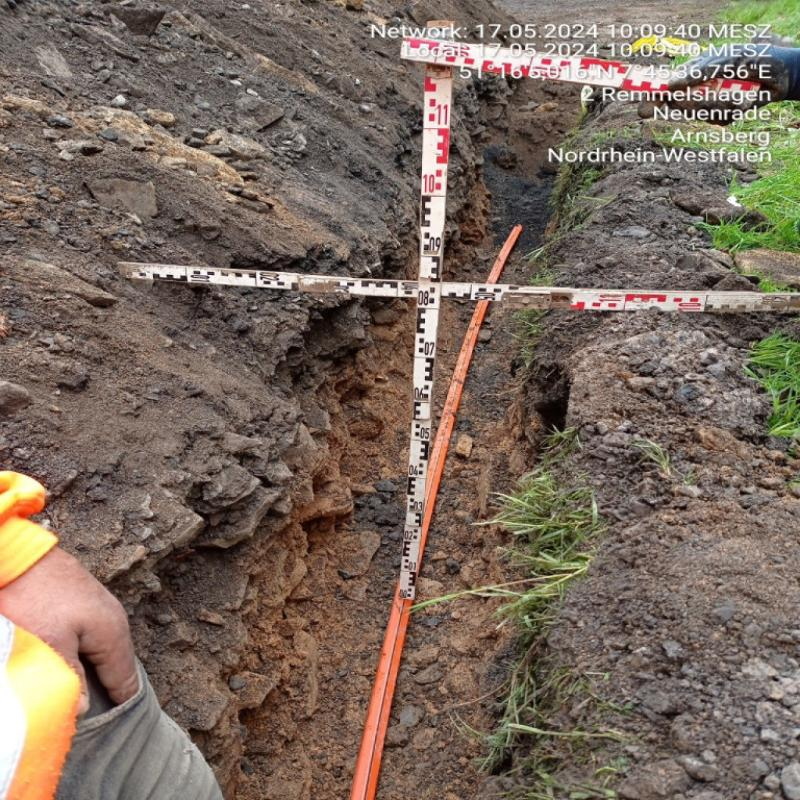Orang-Speednetrohrchen: (419, 224, 522, 570), (351, 580, 410, 796)
